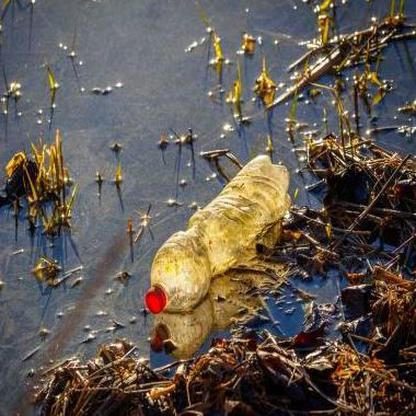plastic bottle: (143, 154, 292, 314)
